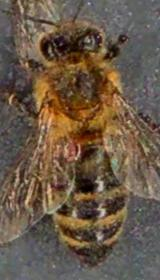varroa_mite: (60, 136, 87, 162)
